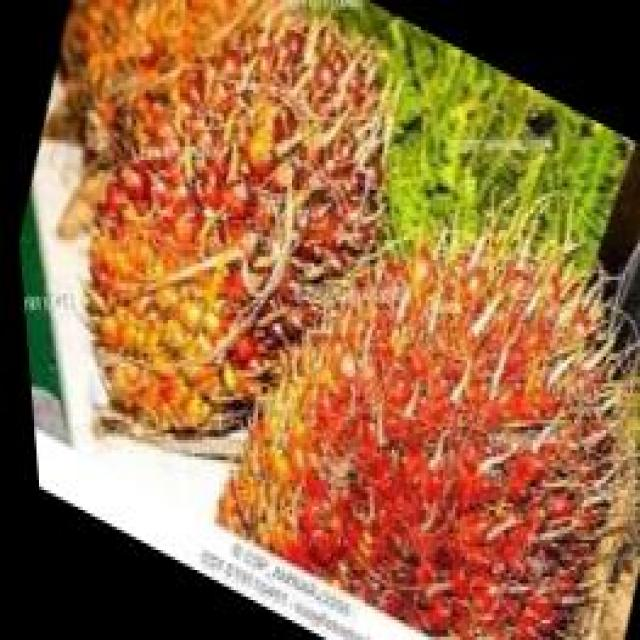Ripefruit: (190, 110, 640, 640), (34, 0, 433, 527)
